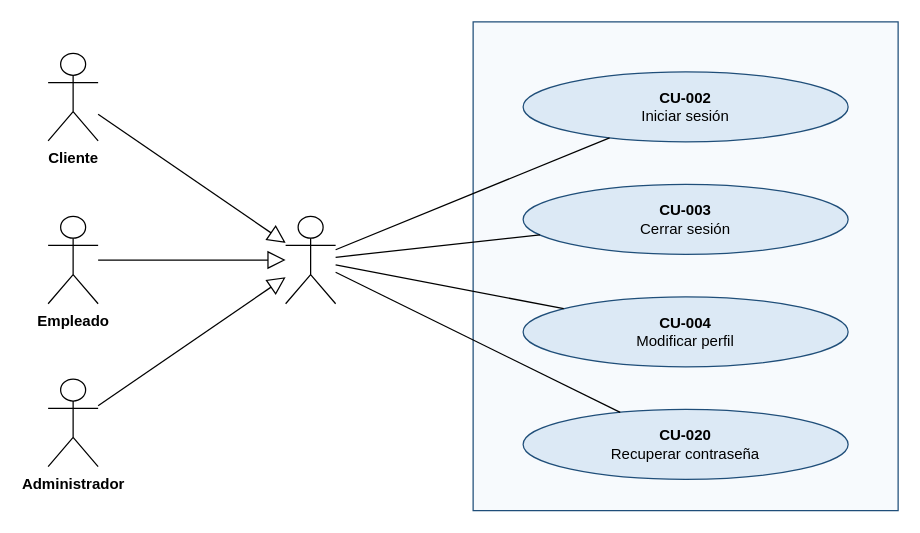
This 920x533 diagram has some shape labels left out. Each missing label, with the box of its shape:
GestionDeCitas: (472, 21, 898, 511)
Usuario: (284, 215, 336, 304)
